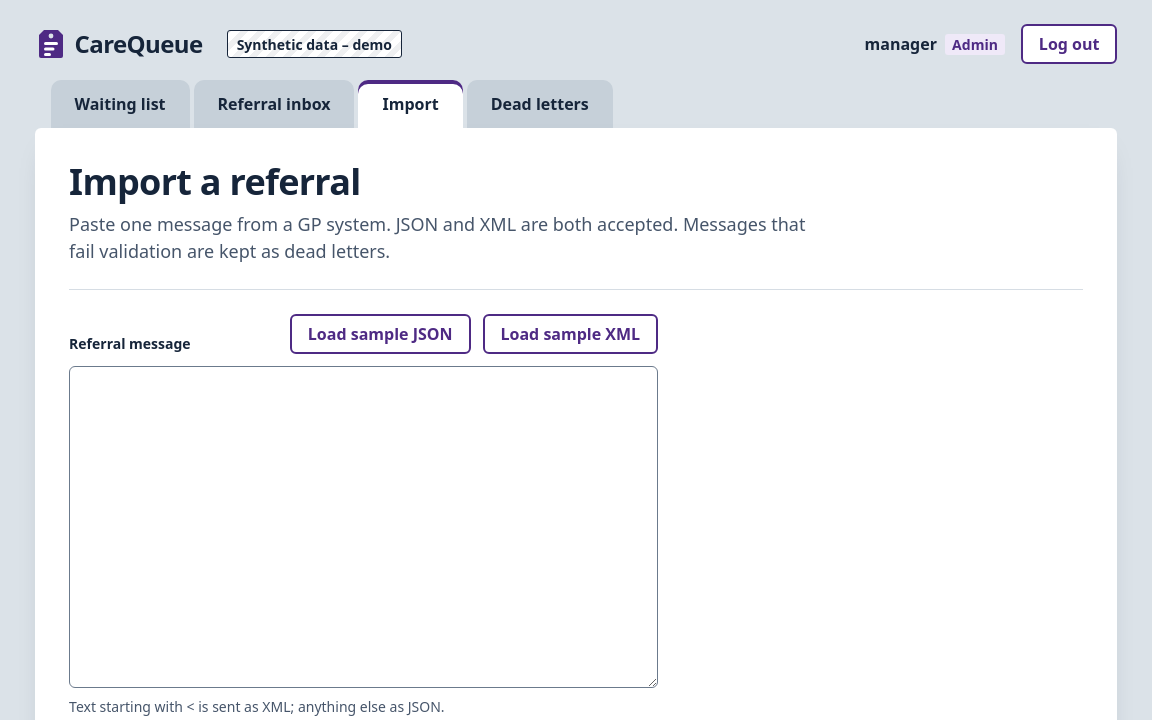
Test: import page › says when a message was already imported (200) and links to the existing referral
The image size is (1152, 720).
Click the button "Load sample JSON": (380, 334) top-left (290, 314), bottom-right (470, 354)
(page scrolled)
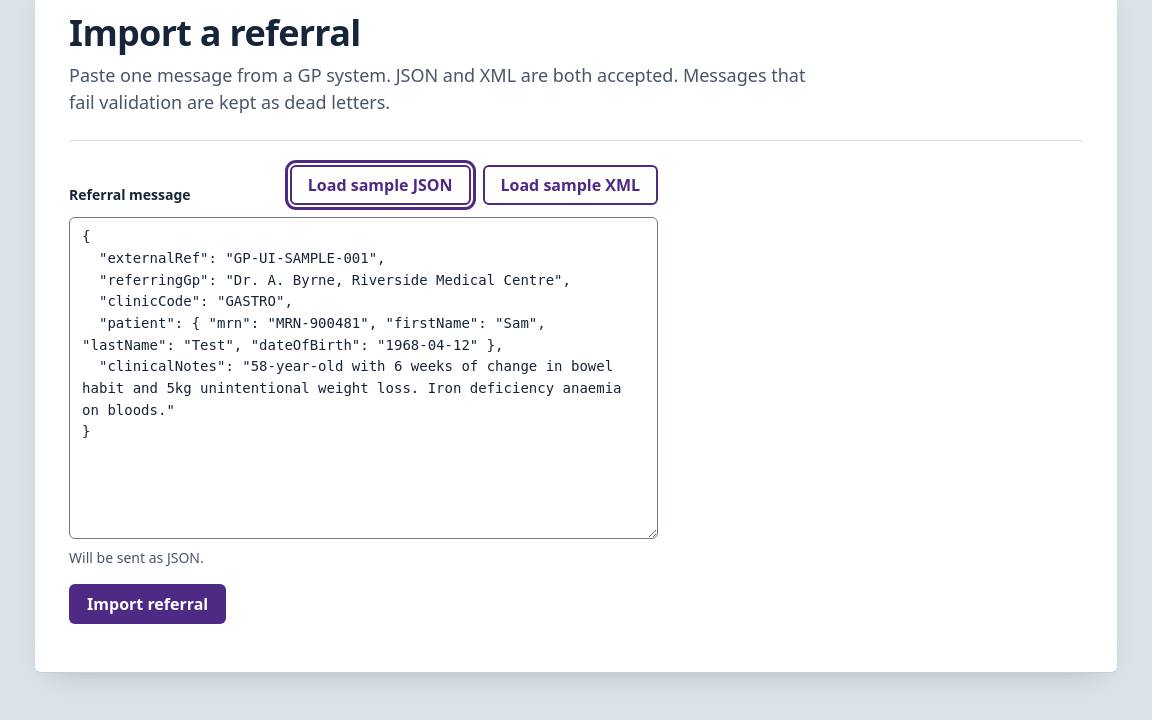
Click the button "Import referral": (148, 604) top-left (69, 584), bottom-right (226, 624)
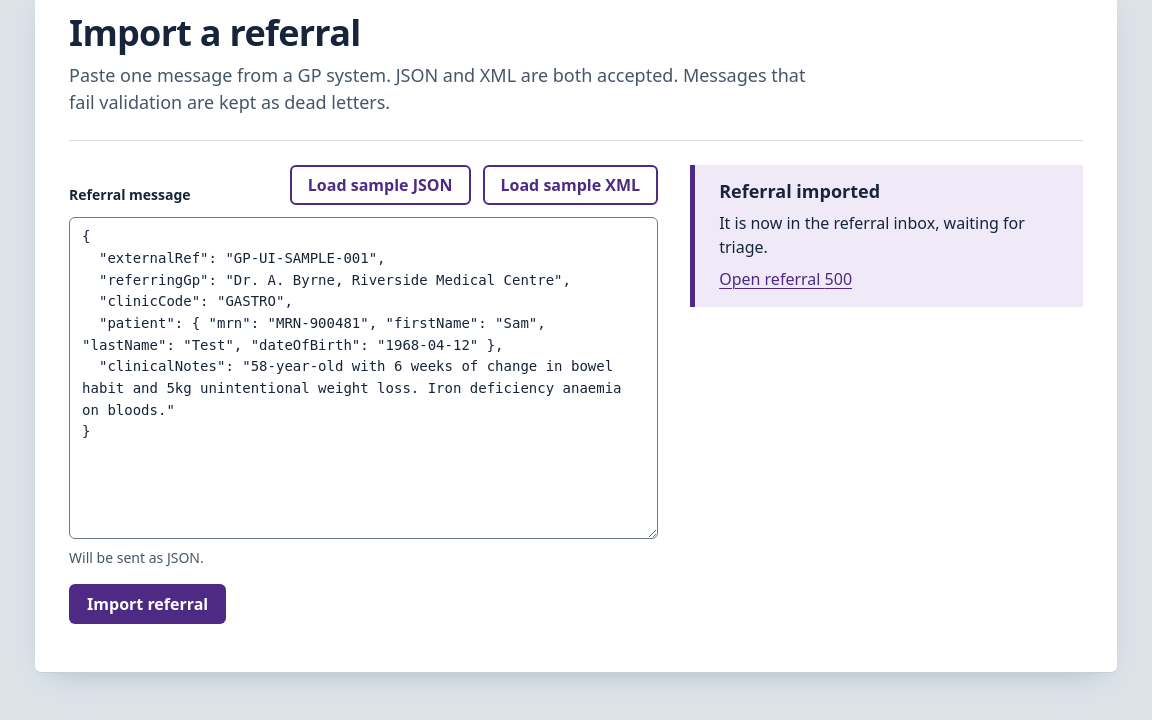
Result: the heading "Referral imported" is shown at top-left (719, 179), bottom-right (880, 203)
Click the button "Import referral": (148, 604) top-left (69, 584), bottom-right (226, 624)
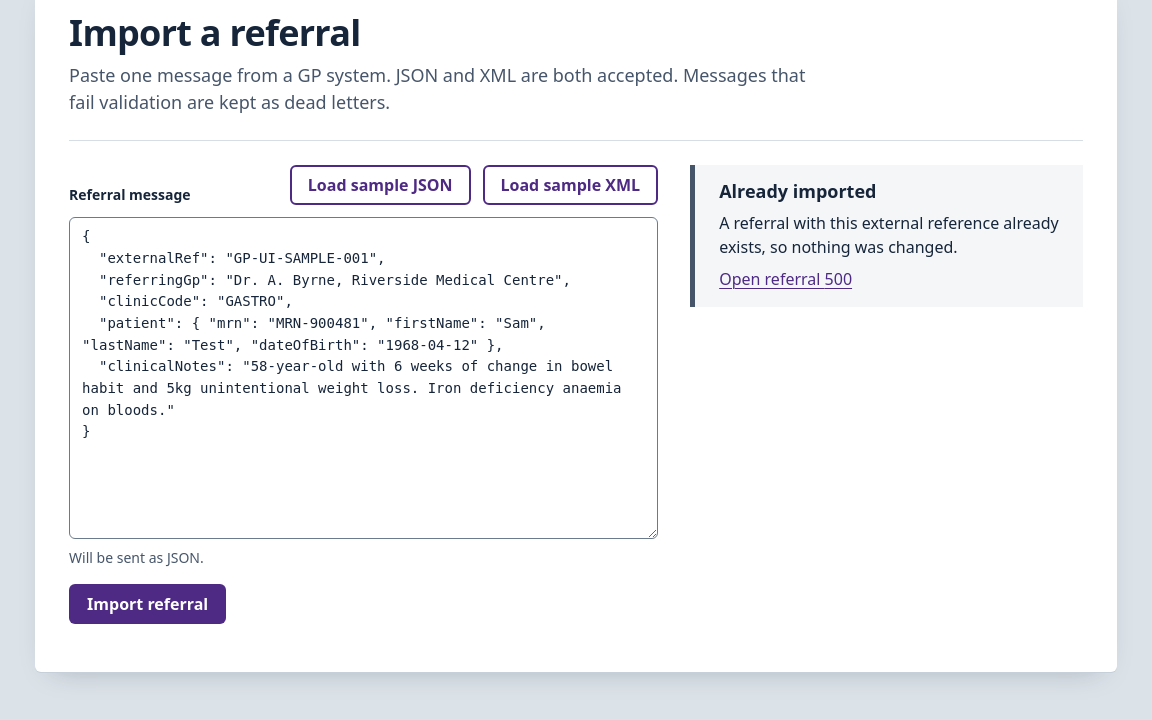
Result: the heading "Already imported" is shown at top-left (719, 179), bottom-right (876, 203)
